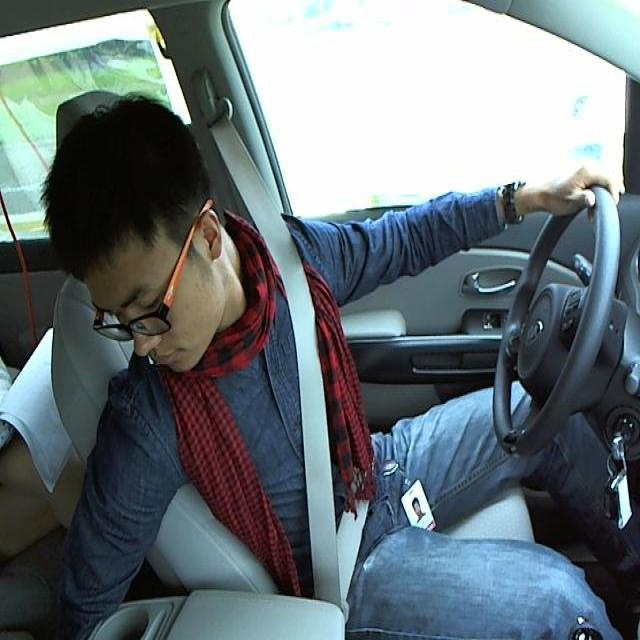seatbelt: (258, 249, 372, 588)
